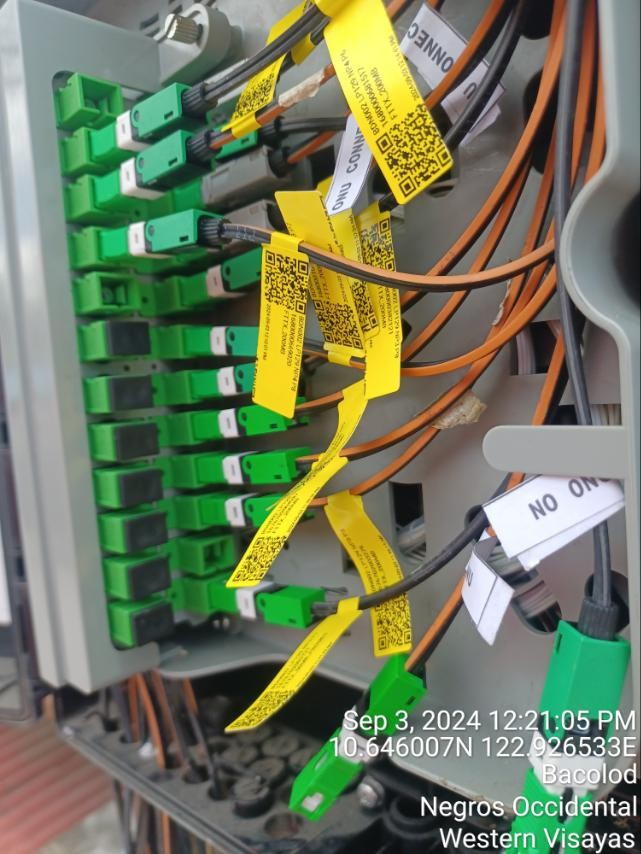no dust cap: (77, 75, 124, 115), (96, 274, 141, 307), (202, 534, 236, 574)
occupied: (142, 49, 290, 140), (93, 114, 233, 210), (85, 73, 218, 160), (179, 232, 323, 306), (171, 133, 300, 215), (148, 108, 295, 172), (176, 192, 301, 263), (101, 204, 239, 265), (205, 583, 339, 632), (197, 393, 322, 443), (190, 356, 319, 399), (195, 447, 326, 484), (186, 327, 311, 364), (201, 492, 323, 524)
vacant: (127, 601, 177, 647), (127, 555, 173, 601), (124, 511, 169, 555), (113, 422, 160, 463), (120, 469, 166, 510), (106, 321, 152, 360), (106, 376, 156, 411)
